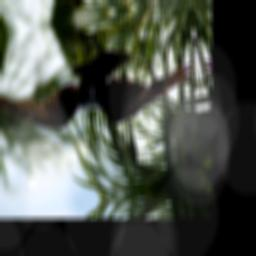Crow: (0, 19, 198, 151)
